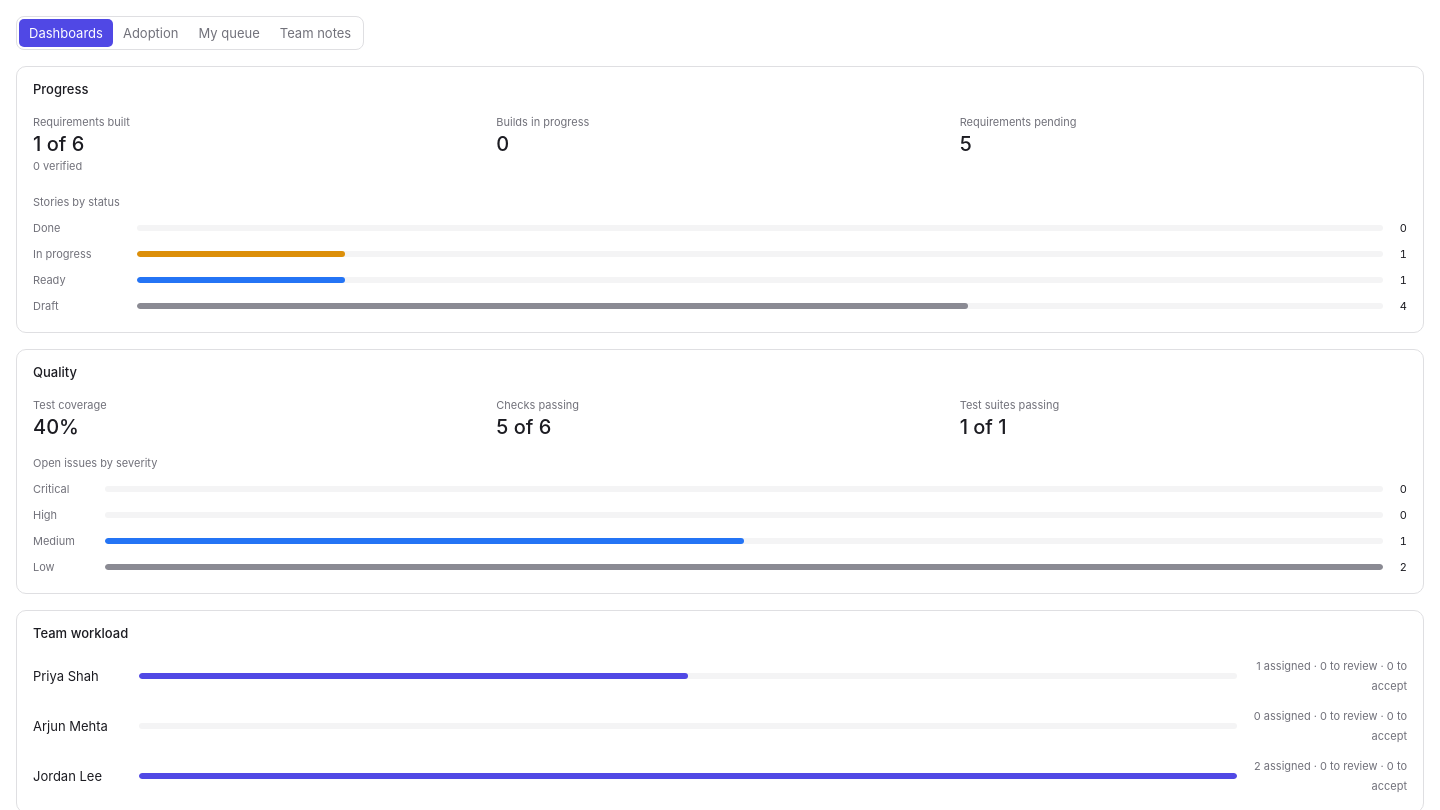
Test: InsightsSection › My queue tab shows an empty state when nothing is waiting
Click the tab "My queue" at coordinates (229, 33), box [188, 19, 270, 47]
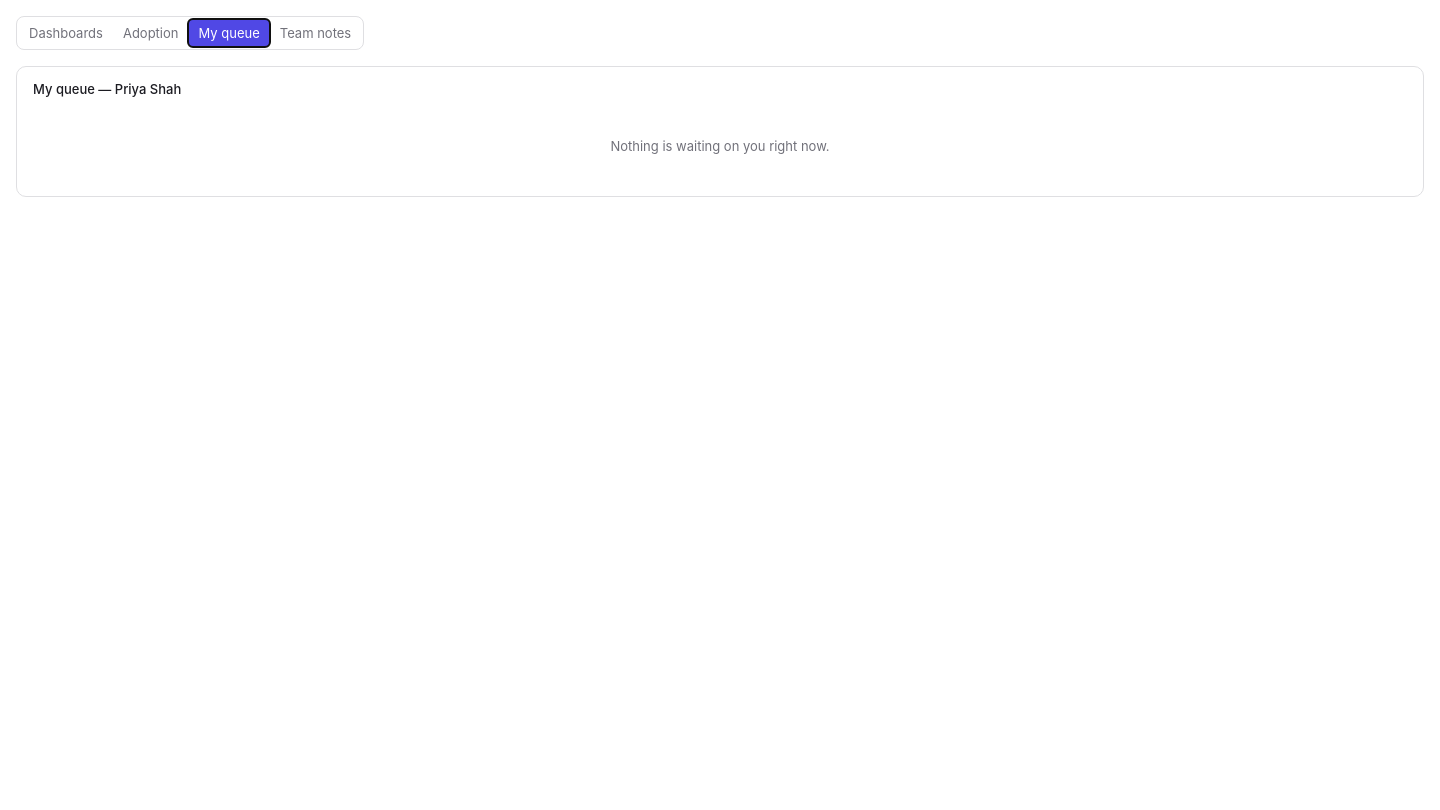
Now the text "Nothing is waiting on you right now." is shown, box [610, 138, 830, 154]
